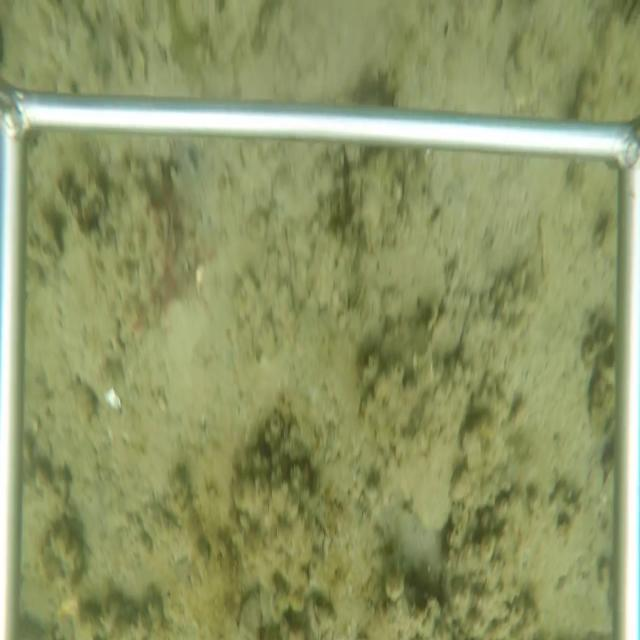Oyster-Indeterminate: (441, 493, 553, 639)
